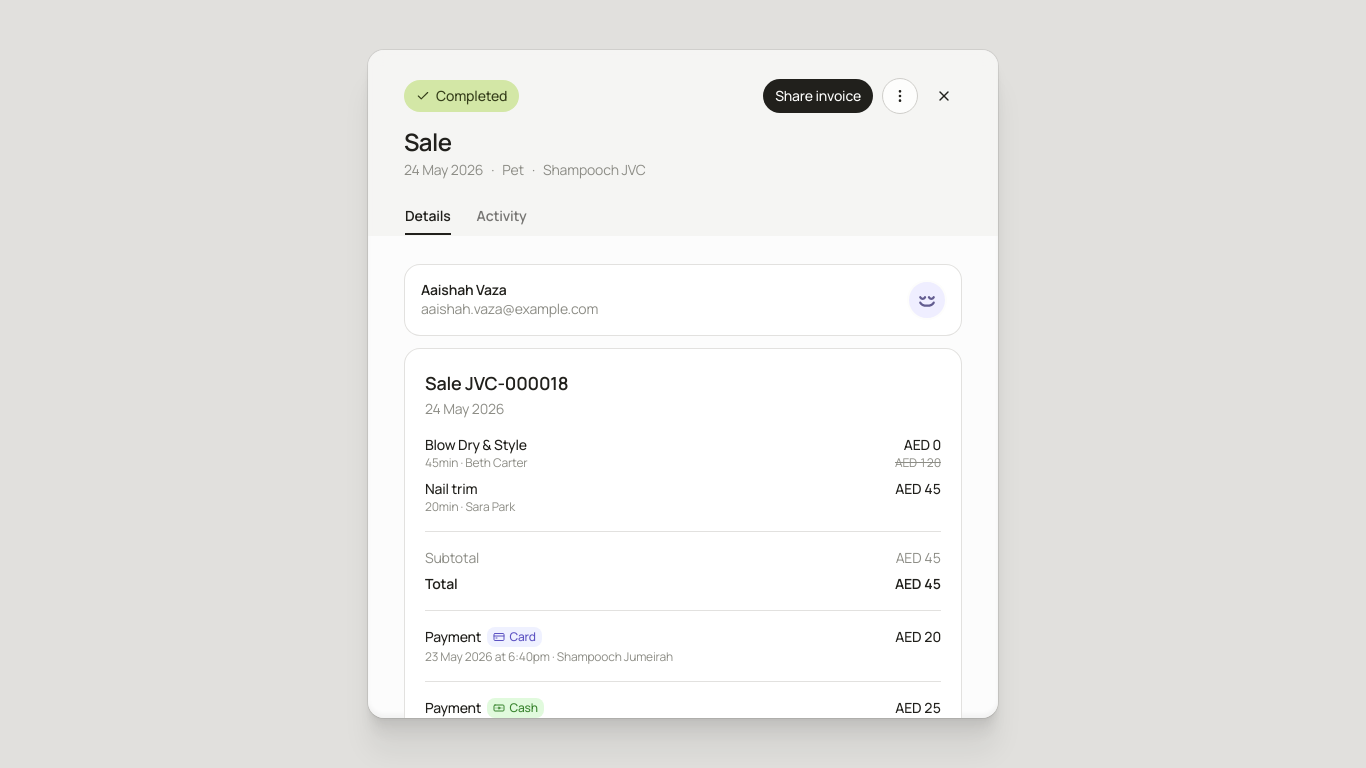
Test: a payment taken at another location › offers void to a viewer who holds both locations
Press the mouse on the button named "Quick actions" at (900, 96), box x1=882 y1=78 x2=918 y2=114
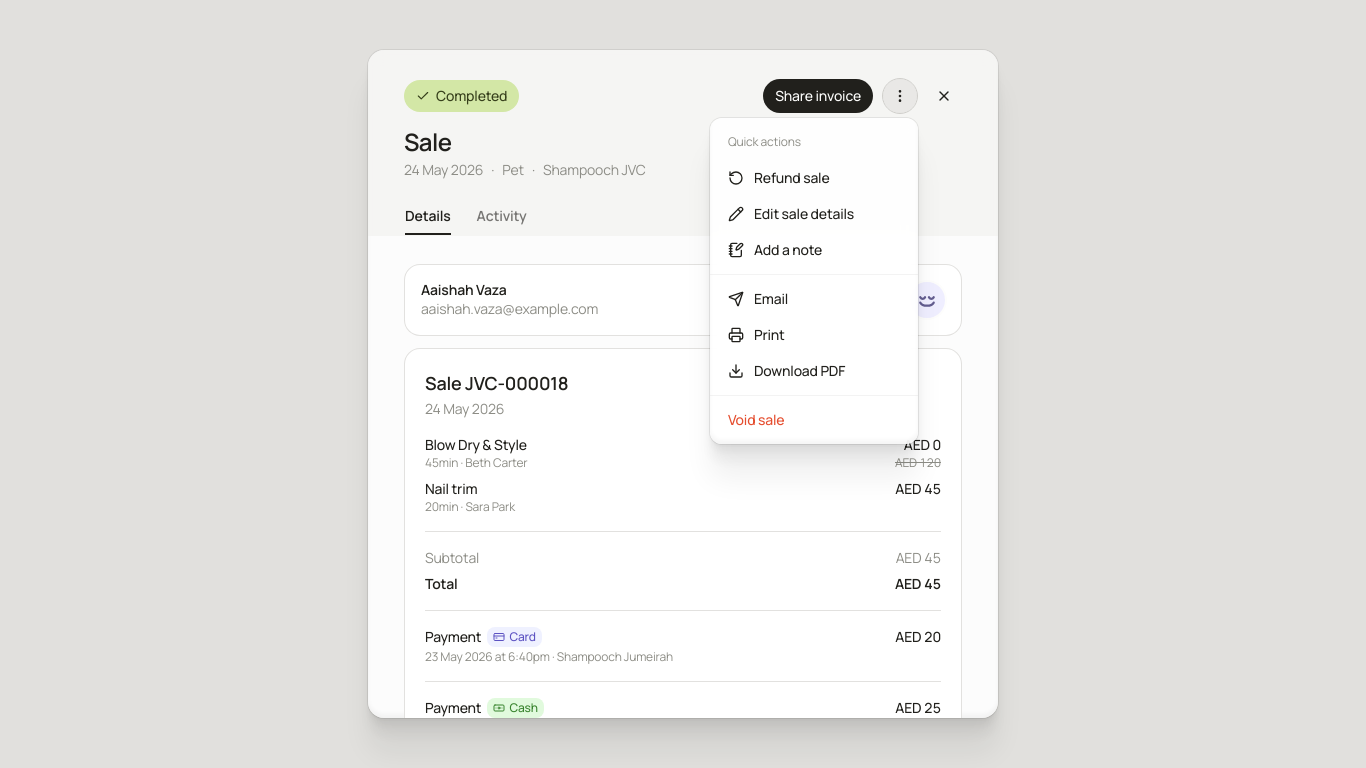
Expected: the menu item "Void sale" is shown, x1=728 y1=410 x2=784 y2=429
